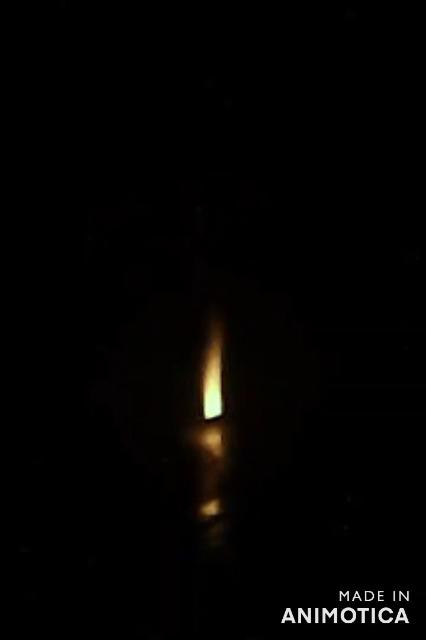burner flame: (202, 322, 224, 420)
